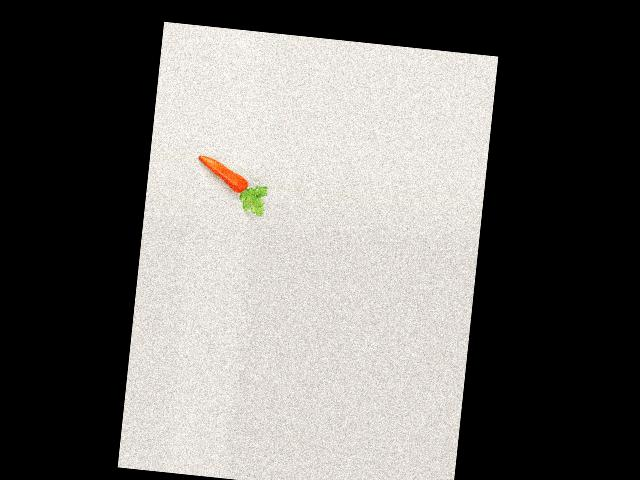carrot: (191, 153, 257, 200)
